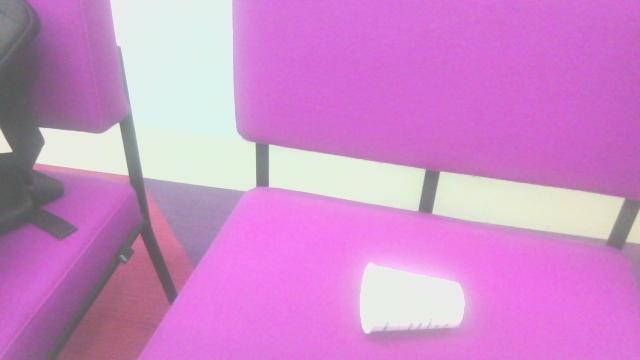cup: (354, 257, 470, 339)
